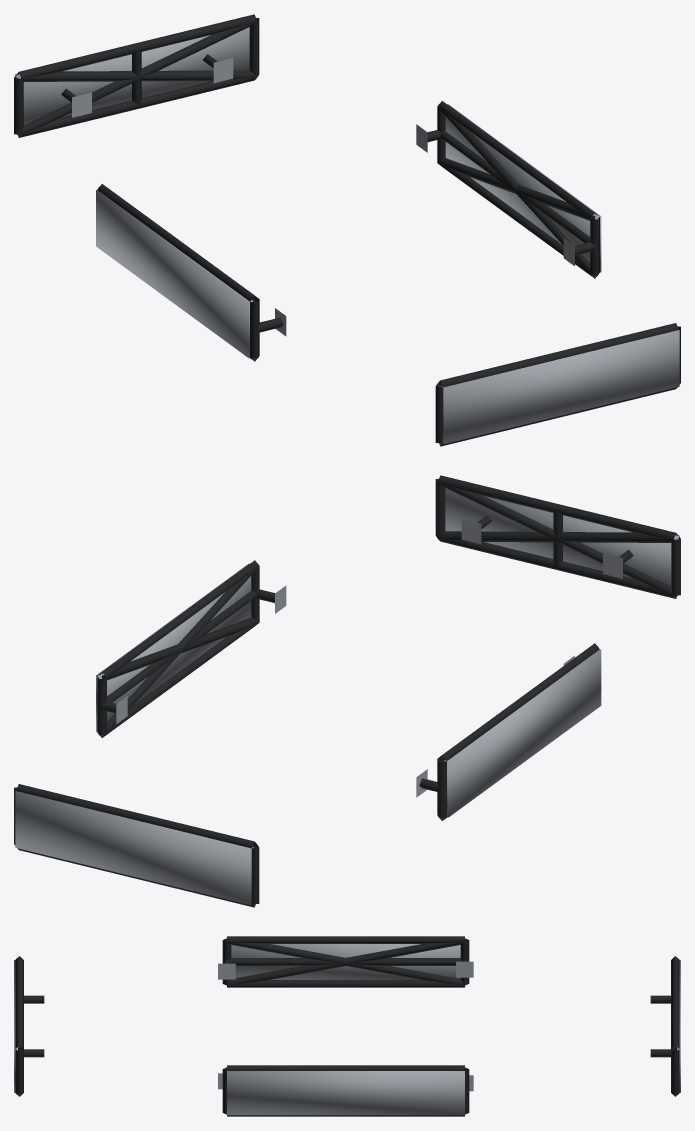
File: morel_jade_protecao.glb
3 renders of one model, top to bottom at view 1: azimuth 30°, elevation 25°; view 2: azimuth 150°, elevation 25°; view 3: azimuth 270°, elevation 25°, orthographic. The views are drawn at different scales.
Visible parts, largest first — view 1: Protection_front_Level3_Details, Protection_left_Level3_Details, Protection_rear_Level1_Details, Protection_rear_Level3_Details, Protection_right_Level1_Details, Protection_rear_Level2_Details, Protection_right_Level2_Details, Protection_right_Level3_Details, Protection_front_Level1_Details, Protection_left_Level1_Details; view 2: Protection_rear_Level3_Details, Protection_left_Level3_Details, Protection_front_Level1_Details, Protection_front_Level3_Details, Protection_right_Level1_Details, Protection_front_Level2_Details, Protection_right_Level2_Details, Protection_right_Level3_Details, Protection_rear_Level1_Details, Protection_left_Level1_Details; view 3: Protection_right_Level3_Details, Protection_left_Level2_Details, Protection_left_Level1_Details, Protection_left_Level3_Details, Protection_right_Level1_Details, Protection_rear_Level1_Details, Protection_front_Level1_Details.
Part boxes in pixels (bbox=[...]): Protection_front_Level3_Details: bbox=[441, 330, 679, 443]; Protection_left_Level3_Details: bbox=[96, 190, 253, 357]; Protection_rear_Level1_Details: bbox=[14, 14, 259, 137]; Protection_rear_Level3_Details: bbox=[15, 27, 249, 124]; Protection_right_Level1_Details: bbox=[416, 101, 599, 278]; Protection_rear_Level2_Details: bbox=[16, 21, 256, 136]; Protection_right_Level2_Details: bbox=[437, 107, 598, 277]; Protection_right_Level3_Details: bbox=[445, 104, 601, 272]; Protection_front_Level1_Details: bbox=[435, 323, 680, 446]; Protection_left_Level1_Details: bbox=[97, 184, 286, 361]; Protection_rear_Level3_Details: bbox=[15, 791, 253, 904]; Protection_left_Level3_Details: bbox=[443, 649, 601, 817]; Protection_front_Level1_Details: bbox=[435, 475, 680, 598]; Protection_front_Level3_Details: bbox=[445, 488, 679, 585]; Protection_right_Level1_Details: bbox=[97, 560, 286, 737]; Protection_front_Level2_Details: bbox=[438, 482, 678, 597]; Protection_right_Level2_Details: bbox=[98, 567, 259, 737]; Protection_right_Level3_Details: bbox=[96, 564, 251, 731]; Protection_rear_Level1_Details: bbox=[14, 784, 259, 907]; Protection_left_Level1_Details: bbox=[416, 643, 599, 820]; Protection_right_Level3_Details: bbox=[227, 1071, 464, 1115]; Protection_left_Level2_Details: bbox=[226, 939, 465, 985]; Protection_left_Level1_Details: bbox=[218, 936, 473, 987]; Protection_left_Level3_Details: bbox=[231, 944, 460, 979]; Protection_right_Level1_Details: bbox=[218, 1065, 473, 1116]; Protection_rear_Level1_Details: bbox=[650, 956, 679, 1096]; Protection_front_Level1_Details: bbox=[15, 956, 44, 1096].
Size of the model in its own units: 1.97 by 0.354 by 4.15.
Materials: 1 (1 with a texture image).
